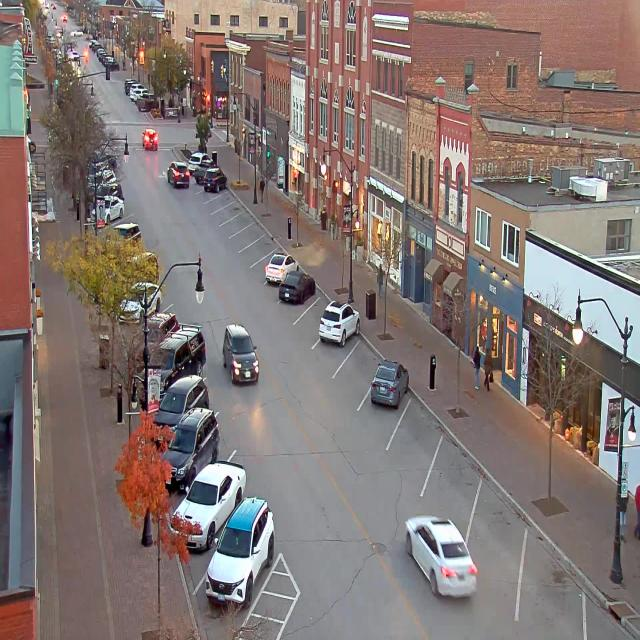available: (513, 526, 592, 640), (464, 492, 527, 583), (392, 387, 446, 468), (428, 442, 477, 518), (578, 586, 639, 639), (340, 332, 382, 396), (302, 288, 331, 333), (241, 215, 264, 247), (246, 233, 268, 261), (216, 182, 236, 208), (220, 197, 239, 220), (230, 210, 247, 232)
occupied: (203, 496, 282, 600), (171, 460, 246, 552), (164, 402, 226, 487), (151, 373, 208, 447), (153, 324, 208, 378), (318, 299, 360, 346), (370, 358, 408, 408), (278, 270, 316, 304), (265, 253, 294, 283), (202, 165, 226, 192), (186, 151, 209, 171), (194, 162, 208, 186)
